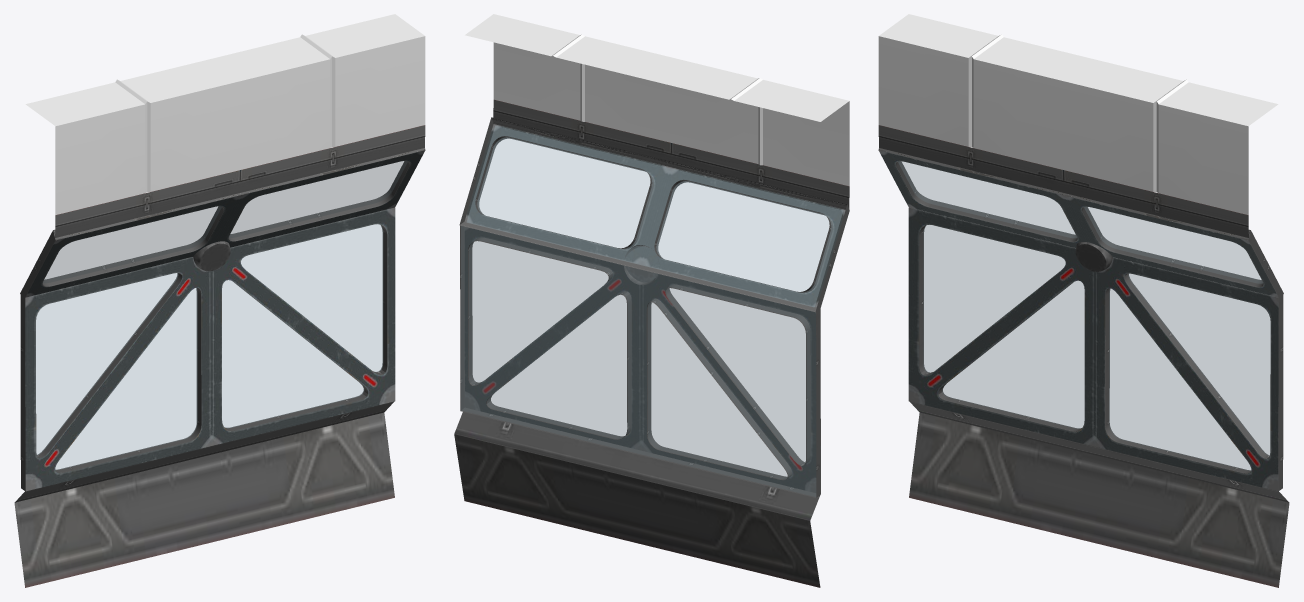
File: sf_wall_window_tall.glb
3 renders of one model, left to right at view 1: azimuth 30°, elevation 25°; view 2: azimuth 150°, elevation 25°; view 3: azimuth 330°, elevation 25°, orthographic. The views are drawn at different scales.
Parts seen in each view (by area): view 1: WallWindow_Straight, TopWindow_Straight; view 2: WallWindow_Straight, TopWindow_Straight; view 3: WallWindow_Straight, TopWindow_Straight.
Part boxes in pixels (x1,y1,x2,y2): WallWindow_Straight: (14, 207, 395, 587); TopWindow_Straight: (20, 14, 425, 297); WallWindow_Straight: (454, 221, 820, 587); TopWindow_Straight: (459, 14, 849, 312); WallWindow_Straight: (908, 207, 1289, 587); TopWindow_Straight: (878, 14, 1283, 297).
Bounding box in the file's own units: 4 × 5.02 × 0.7705.
5 materials, 3 textured.
